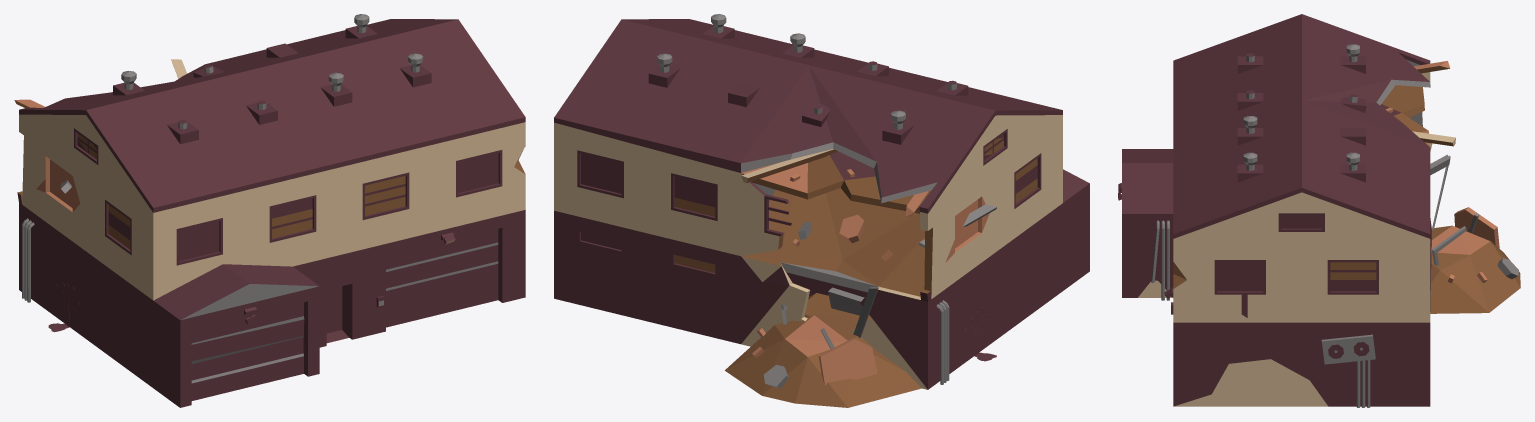
Rendered from industry-building-apocalypse.fbx.
3 renders of one model, left to right at view 1: azimuth 30°, elevation 25°; view 2: azimuth 150°, elevation 25°; view 3: azimuth 270°, elevation 25°, orthographic. The views are drawn at different scales.
Visible parts, largest first — view 1: industry-building-apocalypse; view 2: industry-building-apocalypse; view 3: industry-building-apocalypse.
Boxes of the visible parts, x1=… form: industry-building-apocalypse: x1=14, y1=14, x2=525, y2=407; industry-building-apocalypse: x1=554, y1=14, x2=1089, y2=407; industry-building-apocalypse: x1=1118, y1=14, x2=1520, y2=407.
Size of the model in its own units: 16.91 by 9.49 by 15.67.
